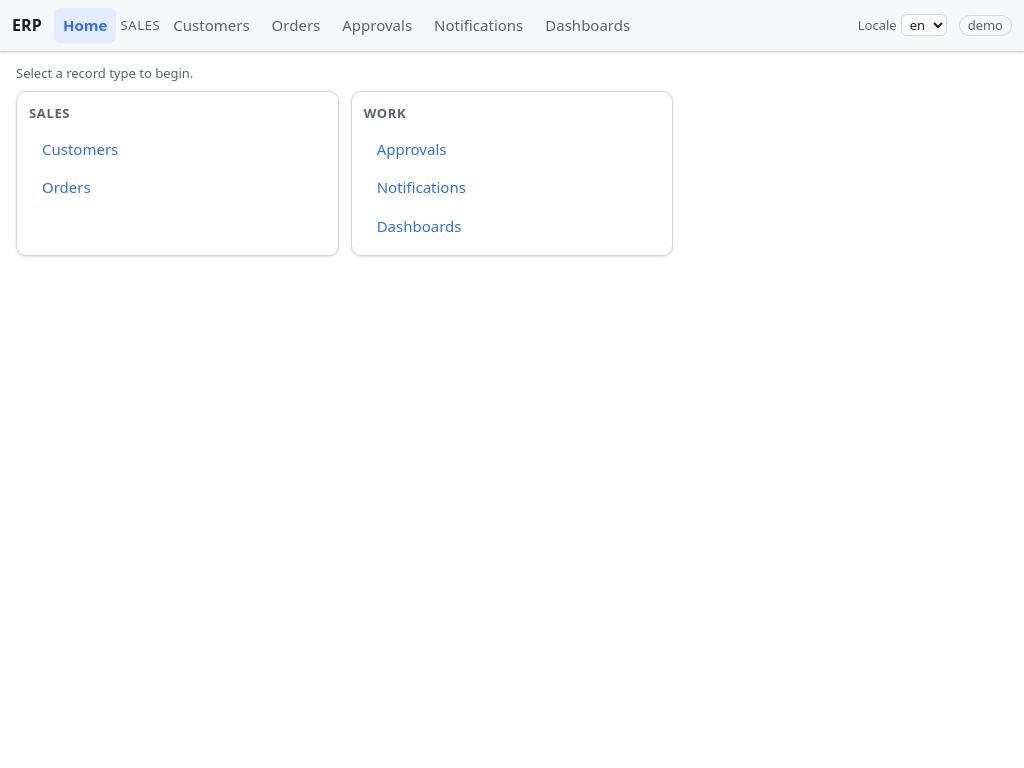
Test case: RuntimeShell › renders the form page through the real renderer (zero page definitions)
Click the button "Orders" in the row of "ERP".
click(296, 25)  # box left=263, top=8, right=329, bottom=42
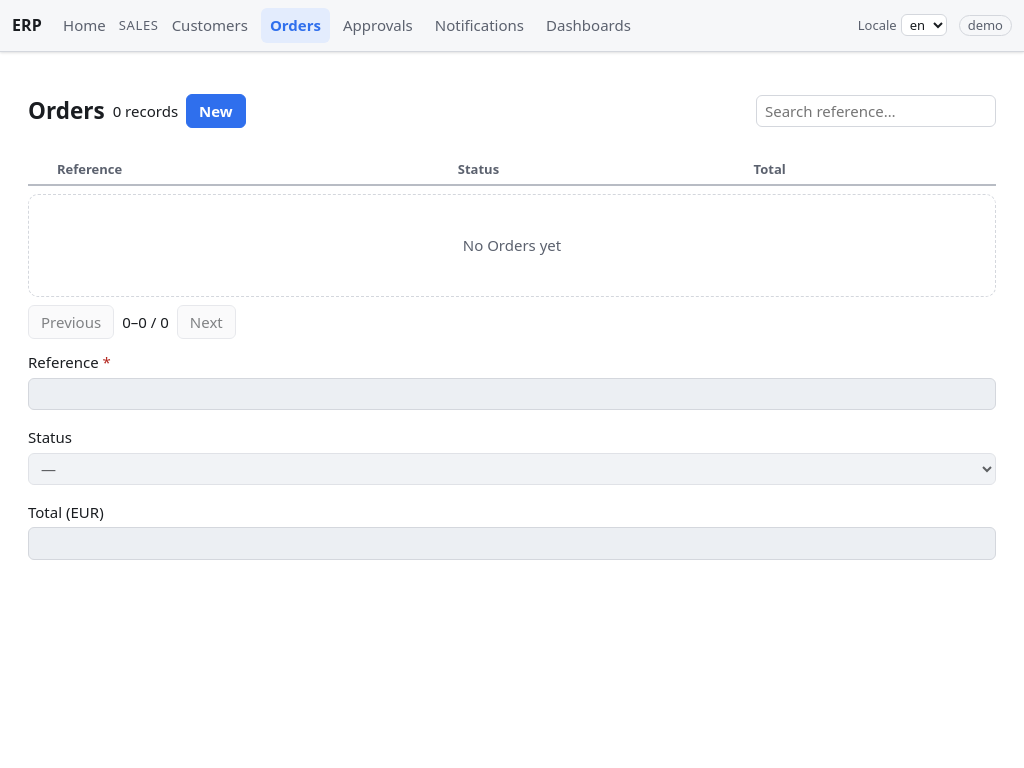
Check: the text "0 records" is shown, box left=113, top=100, right=178, bottom=122
Check: the button "New" is shown, box left=186, top=94, right=246, bottom=128
